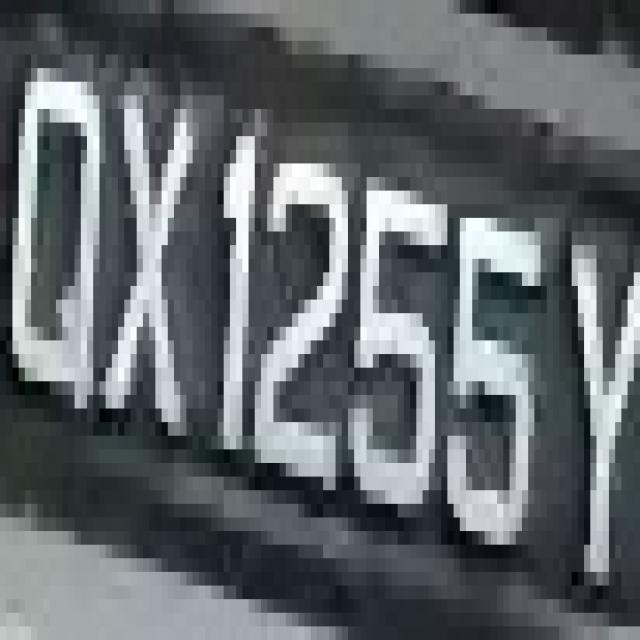1: (217, 122, 261, 544)
2: (242, 150, 348, 544), (242, 82, 268, 150)
5: (336, 122, 454, 518), (428, 150, 540, 544)
Q: (6, 13, 106, 436)
X: (106, 14, 192, 504)
Y: (540, 163, 640, 599)
